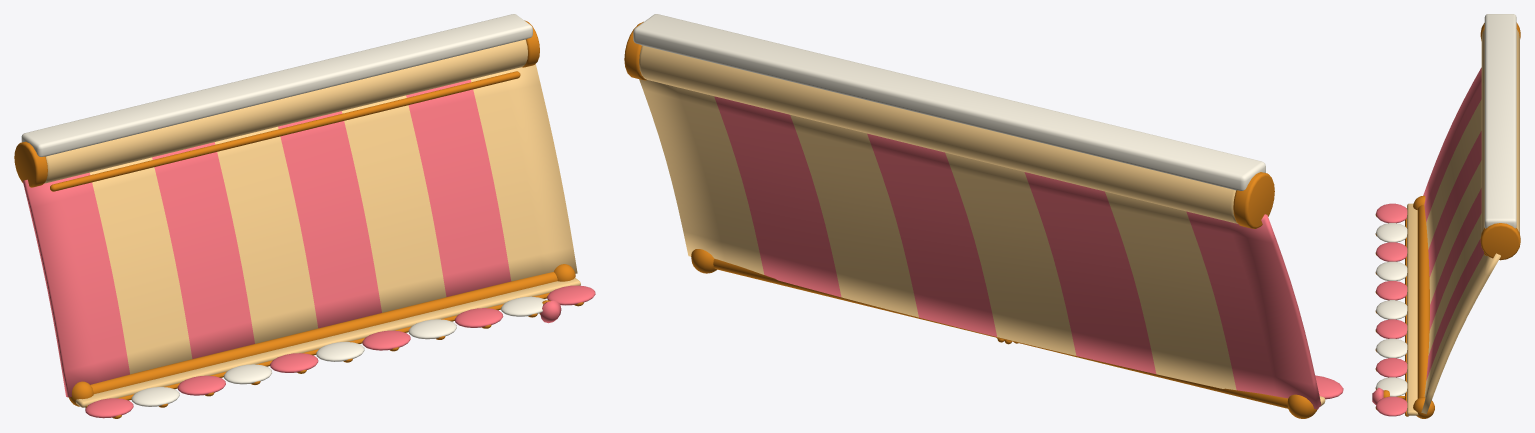
The model's file is BalconySunAwning_Premium.fbx.
3 renders of one model, left to right at view 1: azimuth 30°, elevation 25°; view 2: azimuth 150°, elevation 25°; view 3: azimuth 270°, elevation 25°, orthographic. The views are drawn at different scales.
Parts seen in each view (by area): view 1: BalconySunAwning; view 2: BalconySunAwning; view 3: BalconySunAwning.
Boxes of the visible parts, box(x1,y1,x2,y2) form: BalconySunAwning: box(14, 14, 595, 418); BalconySunAwning: box(624, 14, 1343, 418); BalconySunAwning: box(1372, 14, 1520, 418).
Size of the model in its own units: 2.36 by 1.07 by 0.697.
